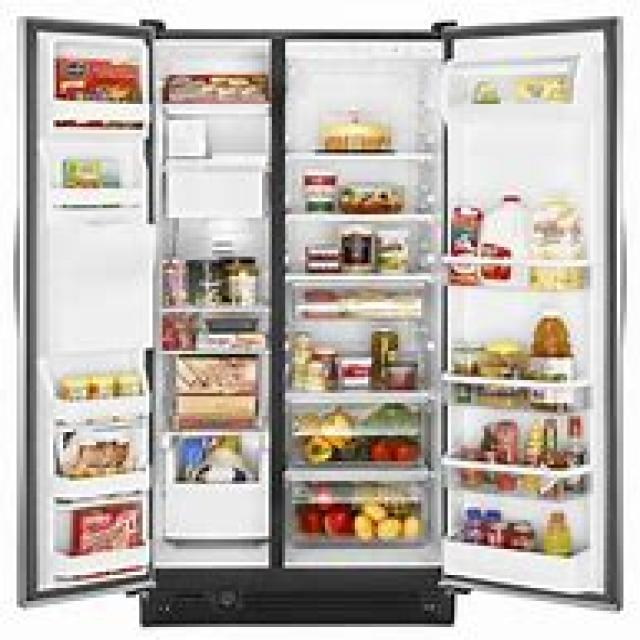fridge: (13, 13, 627, 624)
